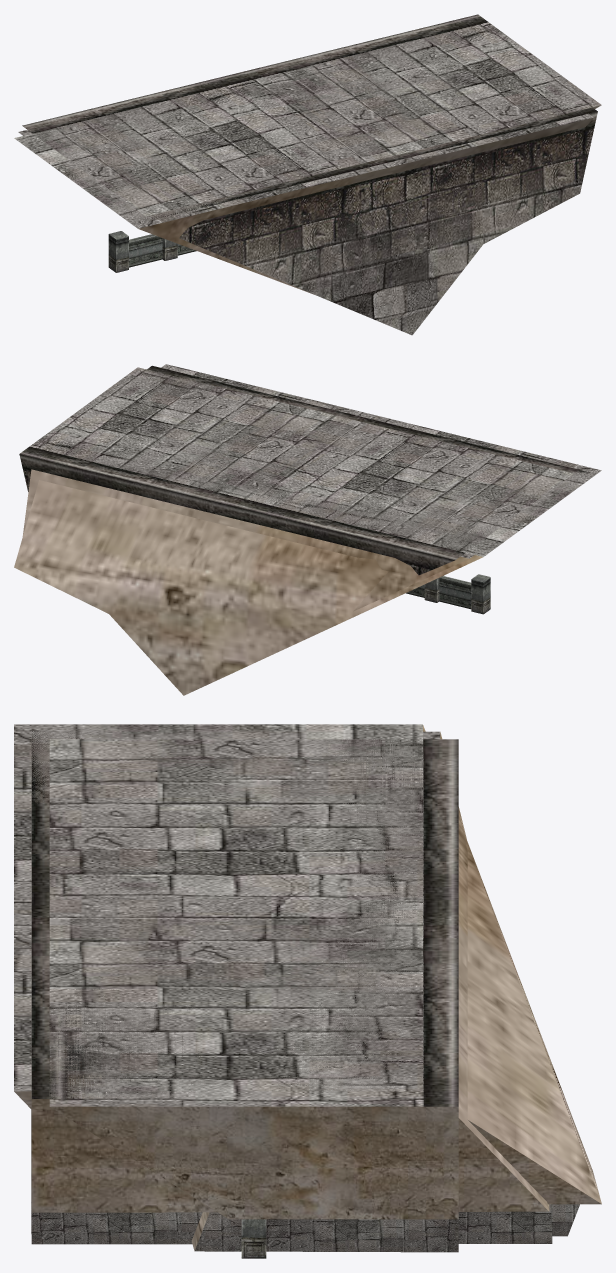
The model's file is bridge02.obj.
3 views of the same model, one above another, from view 1: azimuth 30°, elevation 25°; view 2: azimuth 150°, elevation 25°; view 3: azimuth 270°, elevation 25° (orthographic). The views are drawn at different scales.
Visible parts, largest first — view 1: 0, 2, 4, 1, 3; view 2: 0, 4, 2, 3; view 3: 0, 4, 2, 1.
Boxes of the visible parts, <box> form: 0: <box>22,14,601,216</box>; 2: <box>18,107,597,335</box>; 4: <box>14,27,593,294</box>; 1: <box>109,231,196,272</box>; 3: <box>108,231,164,272</box>; 0: <box>19,367,573,575</box>; 4: <box>14,364,601,695</box>; 2: <box>22,365,587,611</box>; 3: <box>406,575,490,614</box>; 0: <box>49,739,458,1252</box>; 4: <box>14,724,601,1236</box>; 2: <box>31,731,552,1244</box>; 1: <box>241,1219,266,1258</box>.
Bounding box in the file's own units: 295 × 106 × 192.
